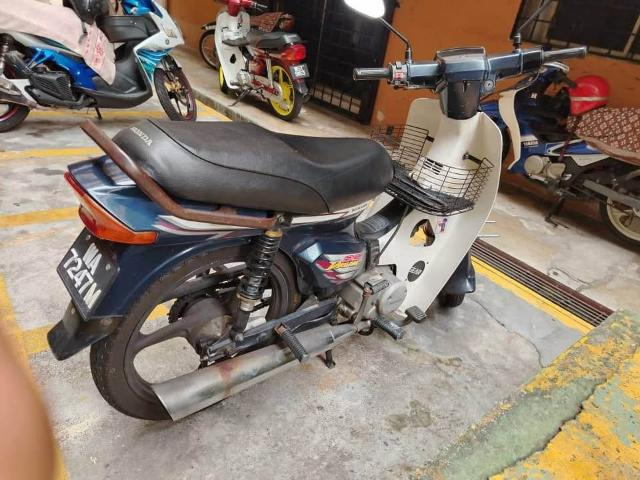License_Plate: (57, 227, 122, 323), (292, 66, 308, 78)
motorcycle: (48, 2, 588, 423), (1, 1, 197, 133), (209, 2, 312, 123)
